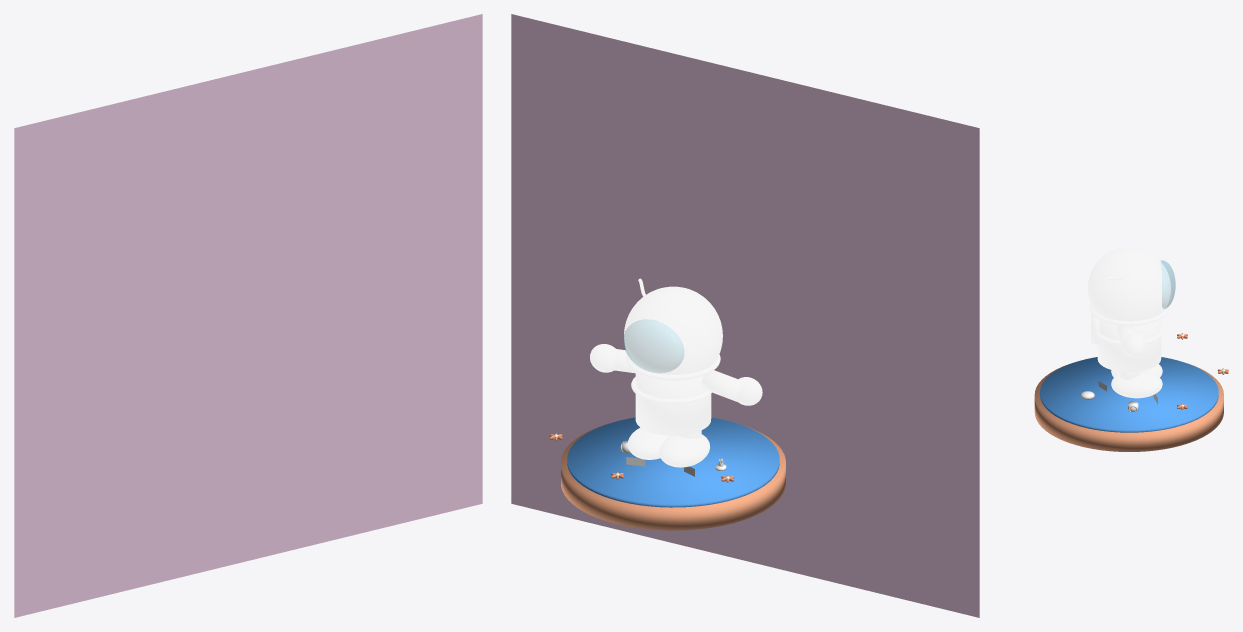
Rendered from spaceman.glb.
3 renders of one model, left to right at view 1: azimuth 30°, elevation 25°; view 2: azimuth 150°, elevation 25°; view 3: azimuth 270°, elevation 25°, orthographic. The views are drawn at different scales.
Visible parts, largest first — view 1: DECO_Backdrop; view 2: DECO_Backdrop, BASE_Top, CHR_Head, BASE_Platform, CHR_Body, CHR_Visor, CHR_Boot_R, CHR_Boot_L, CHR_Arm_R, CHR_Hand_L; view 3: BASE_Top, CHR_Head, BASE_Platform, CHR_Body, CHR_Boot_L, CHR_Visor, CHR_Collar, CHR_Hand_L.
Boxes of the visible parts, x1,y1,x2,y2 form: DECO_Backdrop: [14, 14, 482, 617]; DECO_Backdrop: [511, 14, 979, 617]; BASE_Top: [567, 417, 779, 507]; CHR_Head: [624, 286, 722, 380]; BASE_Platform: [561, 424, 785, 530]; CHR_Body: [635, 372, 711, 435]; CHR_Visor: [623, 319, 683, 372]; CHR_Boot_R: [659, 434, 709, 467]; CHR_Boot_L: [627, 427, 670, 459]; CHR_Arm_R: [702, 370, 744, 401]; CHR_Hand_L: [590, 344, 616, 372]; BASE_Top: [1040, 357, 1218, 432]; CHR_Head: [1087, 247, 1170, 326]; BASE_Platform: [1034, 363, 1223, 451]; CHR_Body: [1097, 319, 1161, 372]; CHR_Boot_L: [1111, 370, 1162, 398]; CHR_Visor: [1161, 260, 1175, 308]; CHR_Collar: [1089, 304, 1168, 325]; CHR_Hand_L: [1124, 333, 1145, 357].
Bounding box in the file's own units: 6 × 6 × 2.91.
